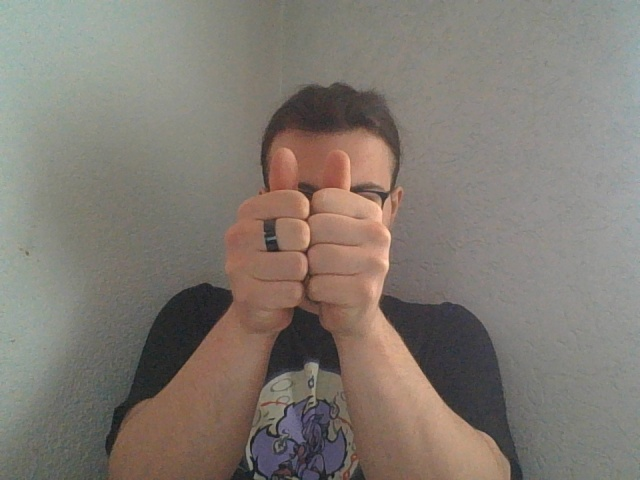Agree: (222, 145, 394, 334)
